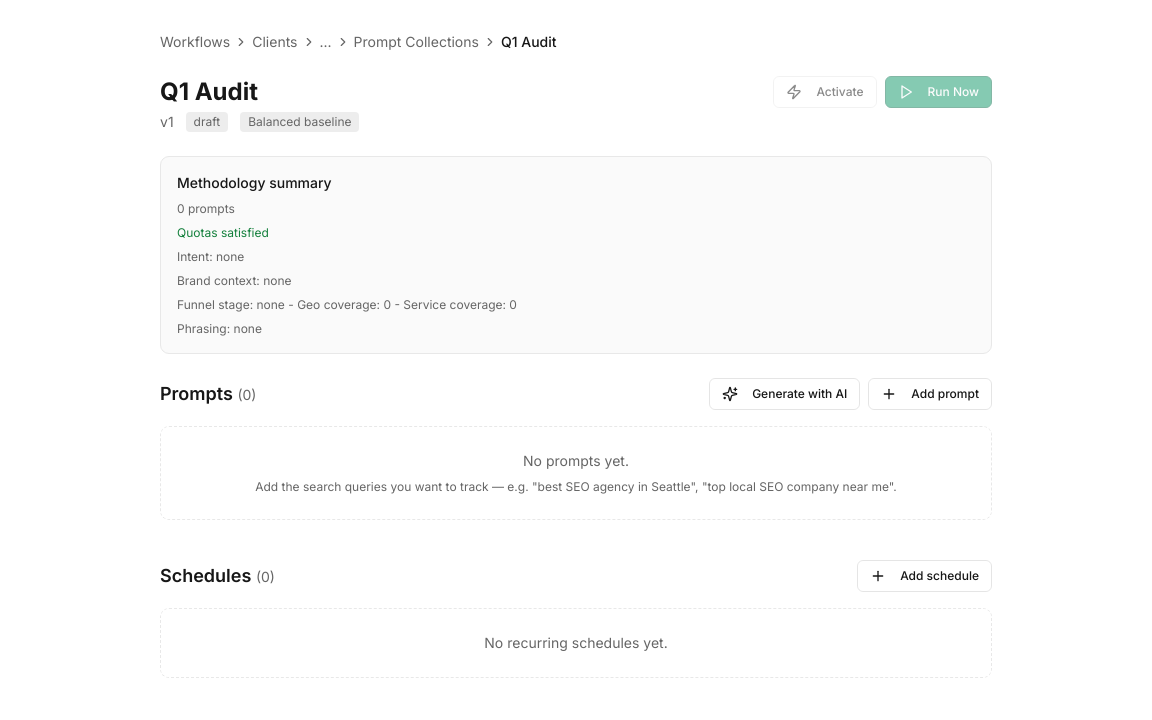
Test: PromptCollectionDetail — AI prompt generation › shows a warning once a candidate's text is edited, since its classification may no longer match (issue #4 Phase 2 item 8)
The image size is (1152, 720).
Step 1. Click the button "Generate with AI" → (785,394), box top-left (709, 378), bottom-right (860, 410)
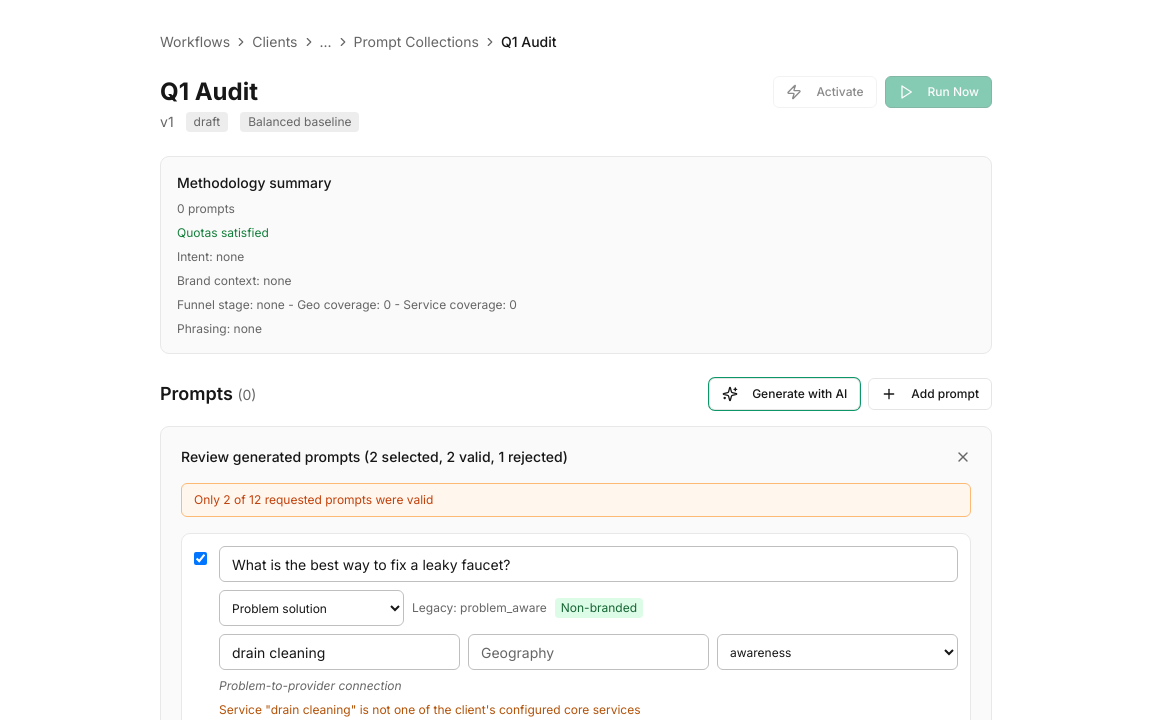
Expected: the text "text edited" is not shown
Step 2. Type " urgently" into the field showing "What is the best way to fix a leaky faucet?" → (588,564), box top-left (219, 546), bottom-right (958, 582)
(page scrolled)
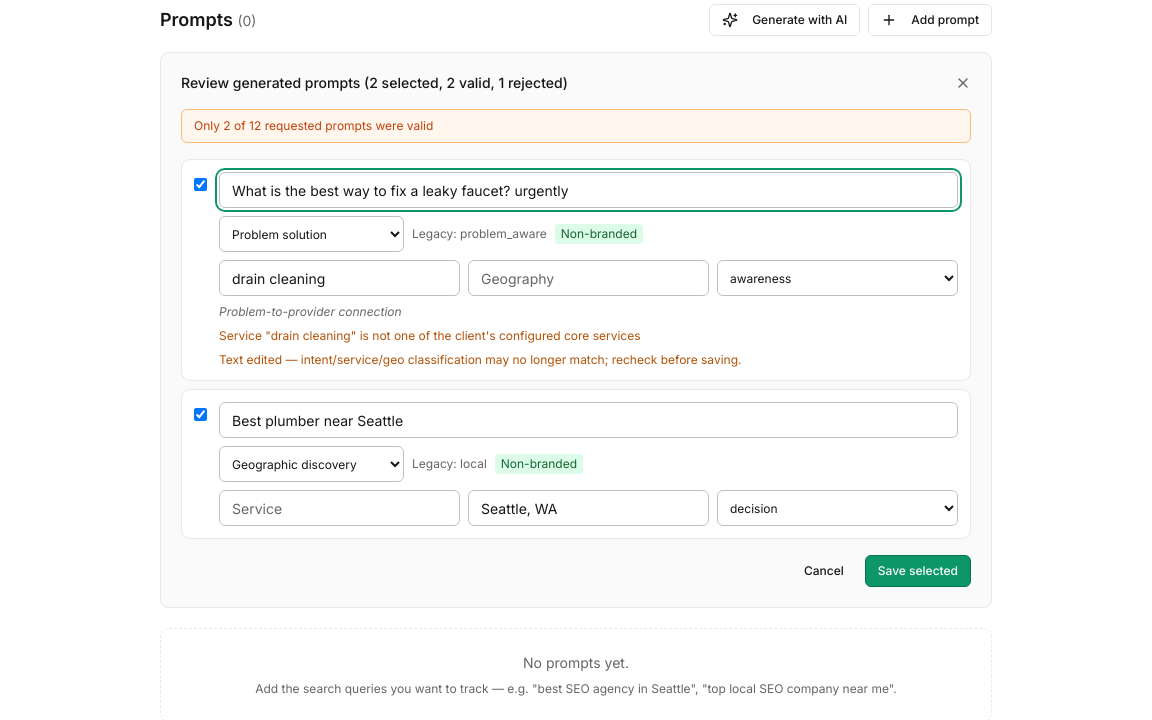
Expected: the text "Text edited" is shown, top-left (219, 352), bottom-right (742, 367)
